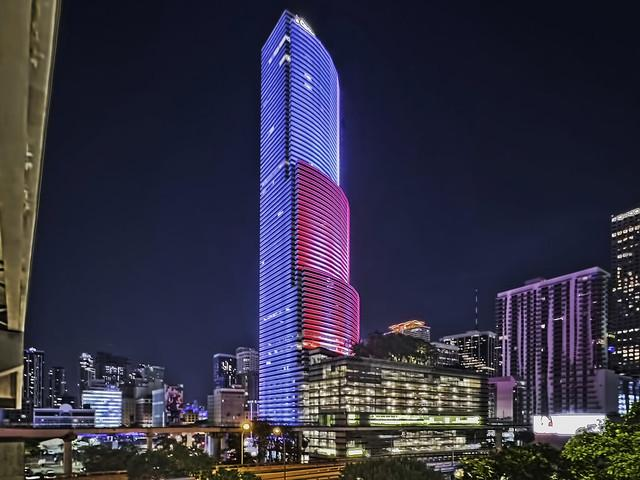building: (250, 7, 364, 428)
